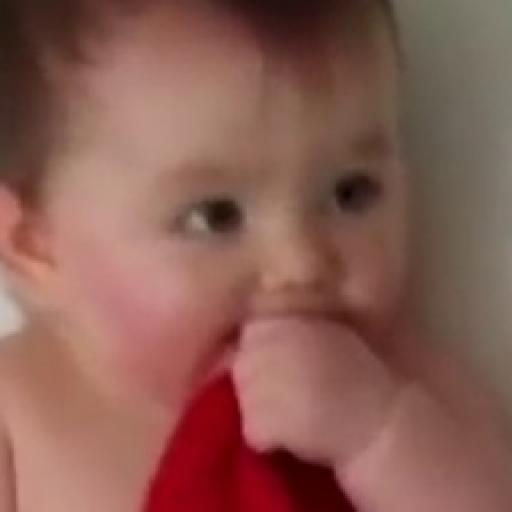Autism: (2, 30, 424, 412)
